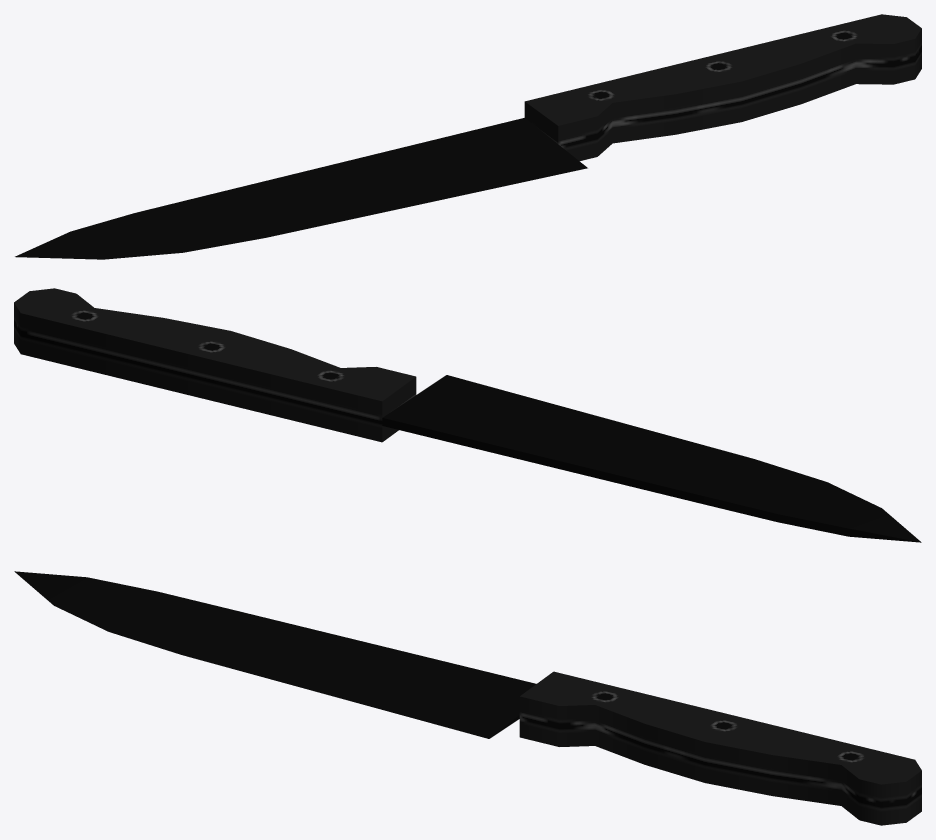
Rendered from Knife.FBX.
3 renders of one model, top to bottom at view 1: azimuth 30°, elevation 25°; view 2: azimuth 150°, elevation 25°; view 3: azimuth 330°, elevation 25°, orthographic.
Visible parts, largest first — view 1: Knife; view 2: Knife; view 3: Knife.
Part boxes in pixels (x1,y1,x2,y2): Knife: [15, 14, 921, 259]; Knife: [14, 288, 921, 542]; Knife: [14, 571, 921, 825].
Bounding box in the file's own units: 33.51 × 1.45 × 4.12.
